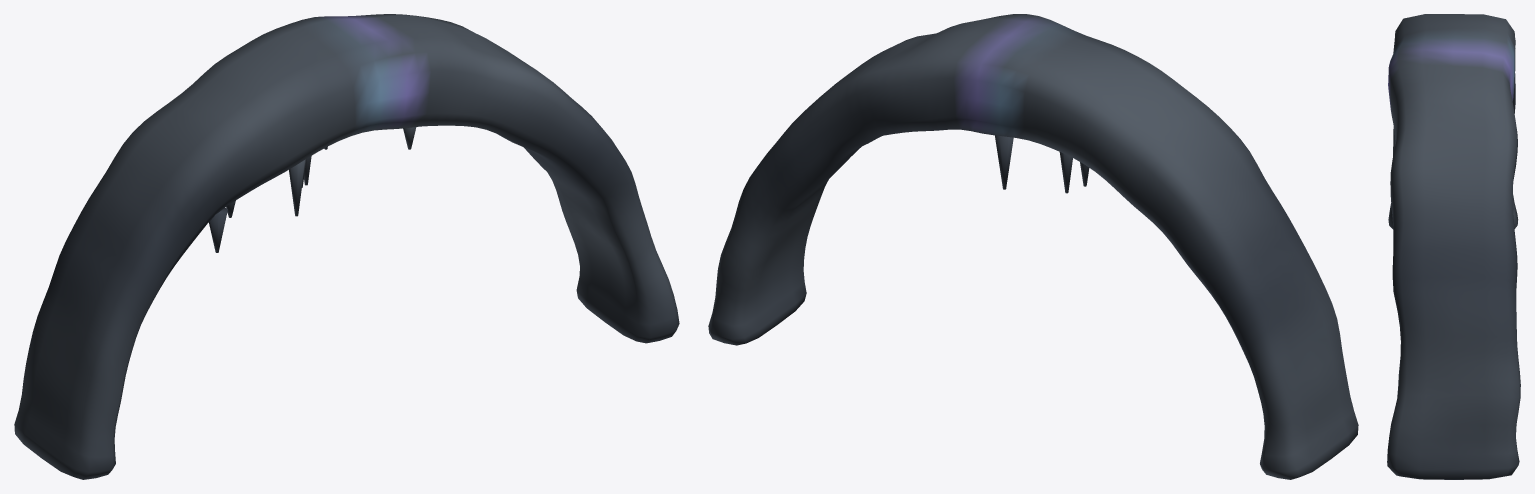
Rendered from Cave_Arch.glb.
3 views of the same model, side by side, from view 1: azimuth 30°, elevation 25°; view 2: azimuth 150°, elevation 25°; view 3: azimuth 270°, elevation 25° (orthographic). The views are drawn at different scales.
Parts seen in each view (by area): view 1: Cave_Arch; view 2: Cave_Arch; view 3: Cave_Arch.
Boxes of the visible parts, x1,y1,x2,y2 form: Cave_Arch: (14, 14, 679, 479); Cave_Arch: (708, 14, 1358, 479); Cave_Arch: (1387, 14, 1520, 479).
Size of the model in its own units: 21.51 by 12.1 by 4.65.
